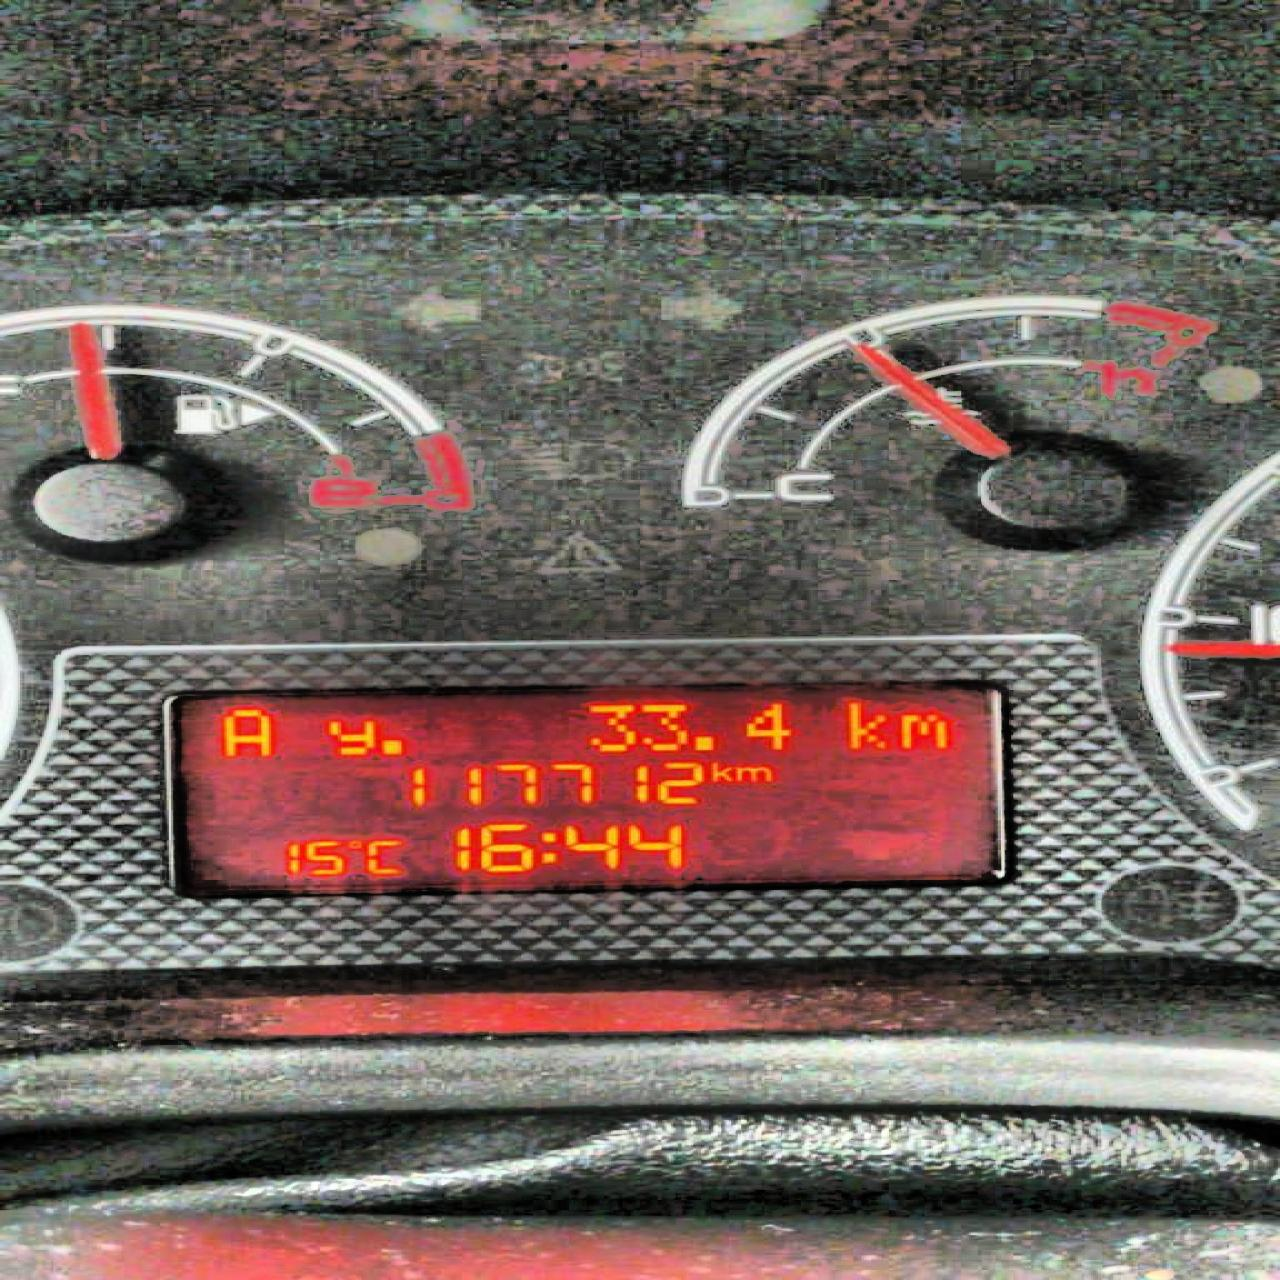-: (689, 731, 719, 751), (377, 737, 404, 755)
1: (625, 762, 654, 808), (449, 823, 471, 878), (404, 764, 431, 806), (463, 764, 484, 805), (282, 835, 302, 877)
2: (658, 758, 697, 808)
3: (580, 701, 635, 753), (640, 701, 687, 754)
4: (625, 821, 687, 870), (560, 823, 615, 869), (742, 701, 794, 749)
5: (302, 837, 345, 874)
6: (478, 818, 533, 873)
7: (546, 757, 595, 803), (493, 760, 539, 802)
X: (206, 704, 273, 754), (891, 708, 958, 753), (843, 699, 887, 756), (325, 714, 372, 757), (362, 833, 404, 877), (735, 761, 776, 785), (538, 829, 556, 870), (704, 757, 729, 783)
odometer: (157, 676, 1015, 900)
